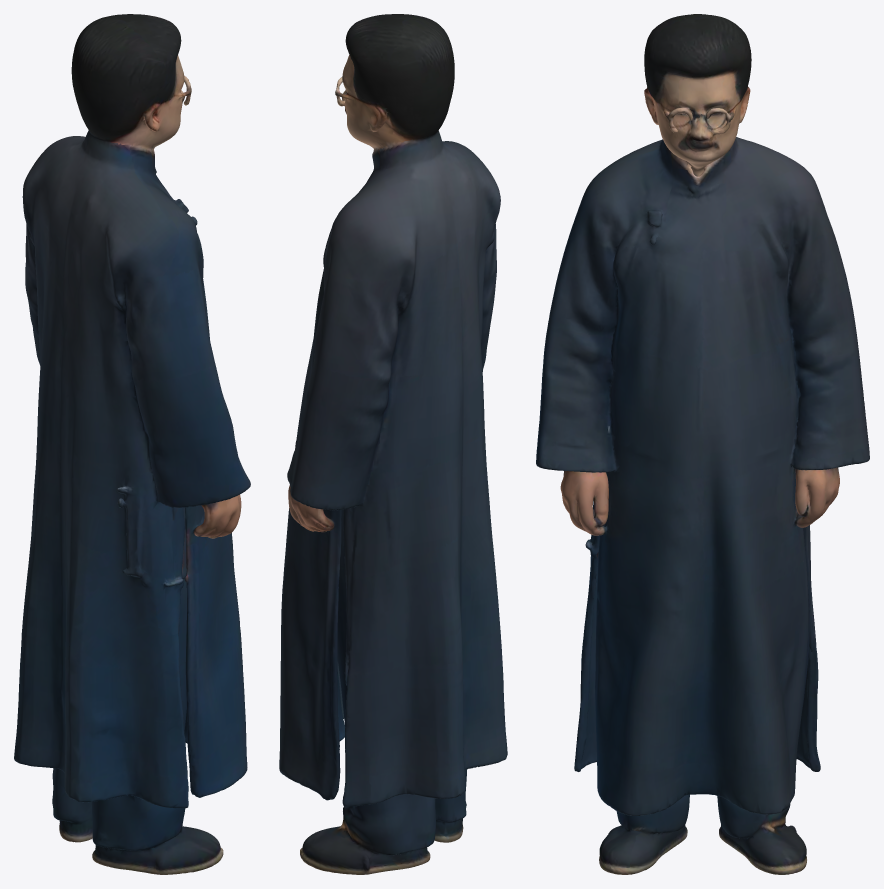
Rendered from lu-xun.glb.
3 views of the same model, side by side, from view 1: azimuth 30°, elevation 25°; view 2: azimuth 150°, elevation 25°; view 3: azimuth 270°, elevation 25° (orthographic).
Visible parts, largest first — view 1: tripo_node_bf10a16c-fab7-47e7-a788-86948a0cd119; view 2: tripo_node_bf10a16c-fab7-47e7-a788-86948a0cd119; view 3: tripo_node_bf10a16c-fab7-47e7-a788-86948a0cd119.
Part boxes in pixels (x1,y1,x2,y2): tripo_node_bf10a16c-fab7-47e7-a788-86948a0cd119: (14, 14, 250, 874); tripo_node_bf10a16c-fab7-47e7-a788-86948a0cd119: (279, 14, 507, 874); tripo_node_bf10a16c-fab7-47e7-a788-86948a0cd119: (536, 14, 869, 874).
Bounding box in the file's own units: 0.2274 × 1 × 0.3644.
1 material, 1 textured.
